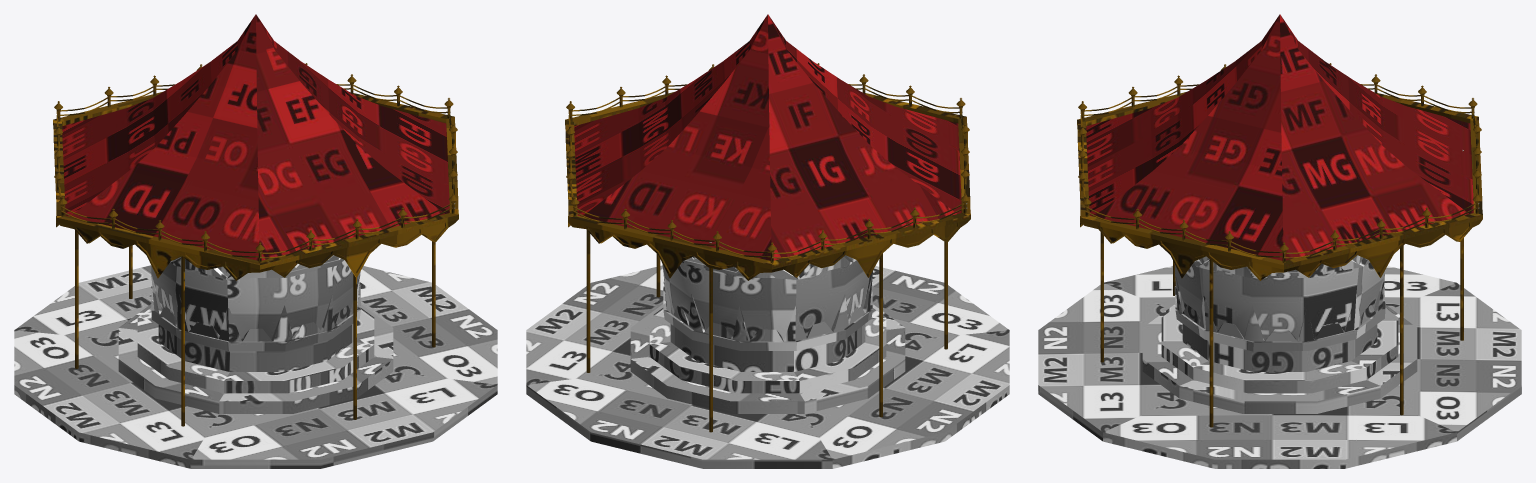
Rendered from Carousel.fbx.
The picture shows the model from 3 angles, left to right: view 1: azimuth 30°, elevation 25°; view 2: azimuth 150°, elevation 25°; view 3: azimuth 270°, elevation 25°; orthographic projection.
Visible parts, largest first — view 1: Body, Roof, Pole9, Pole10, Pole8; view 2: Body, Roof, Pole6, Pole7, Pole8; view 3: Body, Roof, Pole11, Pole6, Pole10.
Part boxes in pixels (x1,y1,x2,y2): Body: (14, 255, 497, 468); Roof: (53, 14, 458, 280); Pole9: (181, 256, 184, 426); Pole10: (353, 274, 356, 419); Pole8: (75, 230, 78, 368); Body: (526, 255, 1009, 468); Roof: (565, 14, 970, 280); Pole6: (586, 230, 590, 372); Pole7: (709, 242, 712, 432); Pole8: (879, 253, 882, 417); Body: (1038, 255, 1521, 468); Roof: (1077, 14, 1482, 280); Pole11: (1209, 259, 1213, 427); Pole6: (1400, 245, 1403, 415); Pole10: (1100, 232, 1103, 362).
Bounding box in the file's own units: 14.31 × 11.93 × 14.31.
4 materials, 3 textured.
